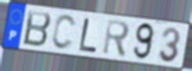3: (159, 26, 183, 64)
9: (131, 21, 156, 62)
B: (21, 9, 53, 49)
C: (50, 14, 78, 52)
L: (77, 17, 99, 54)
R: (101, 18, 131, 59)
